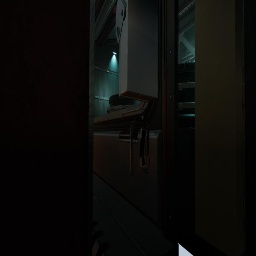EmergencyPhone ,: (130, 108, 150, 176)
SafetySwitchPanel ,: (114, 0, 158, 102)
